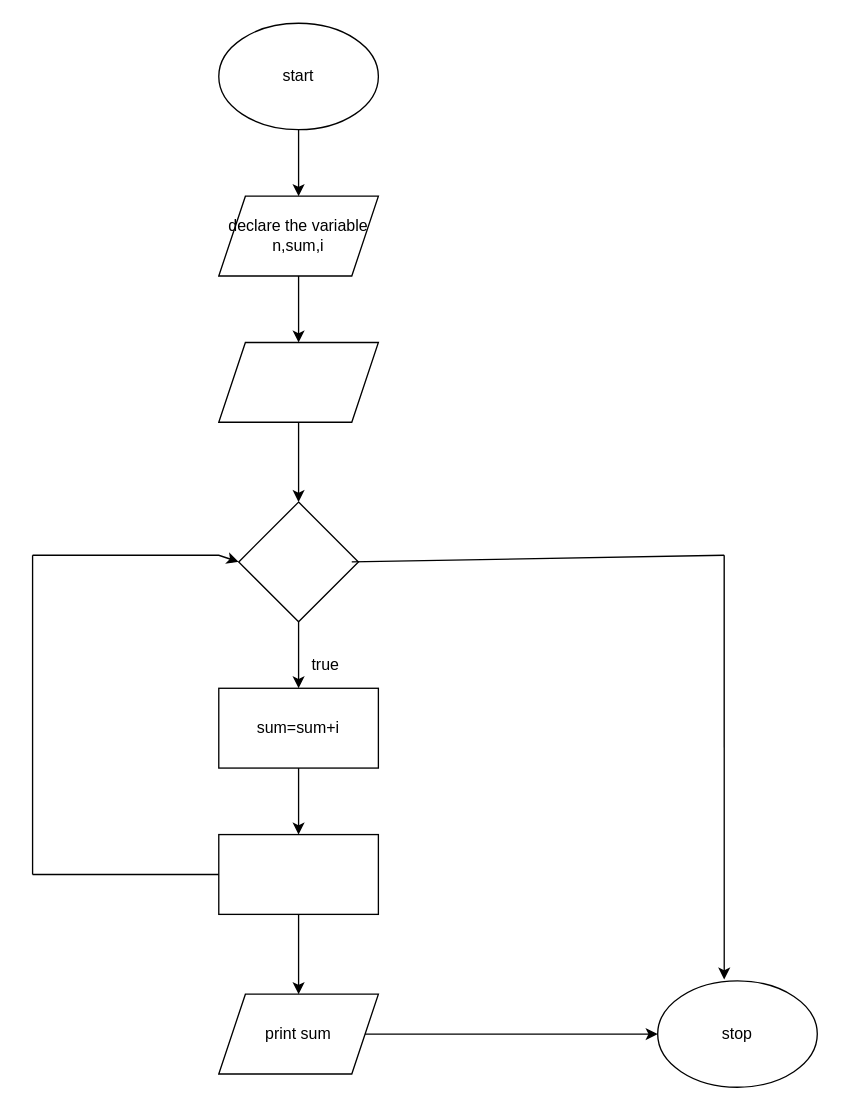
Some shapes in this 841 by 1111 pixel diagram are drawn without their labels. Here are the shapes that lost their labels. From the top down, the centre of each, then its label:
the point at 297,381: initialize i=1 and sum=0
the point at 297,561: (i<=10)?
the point at 297,873: i++
